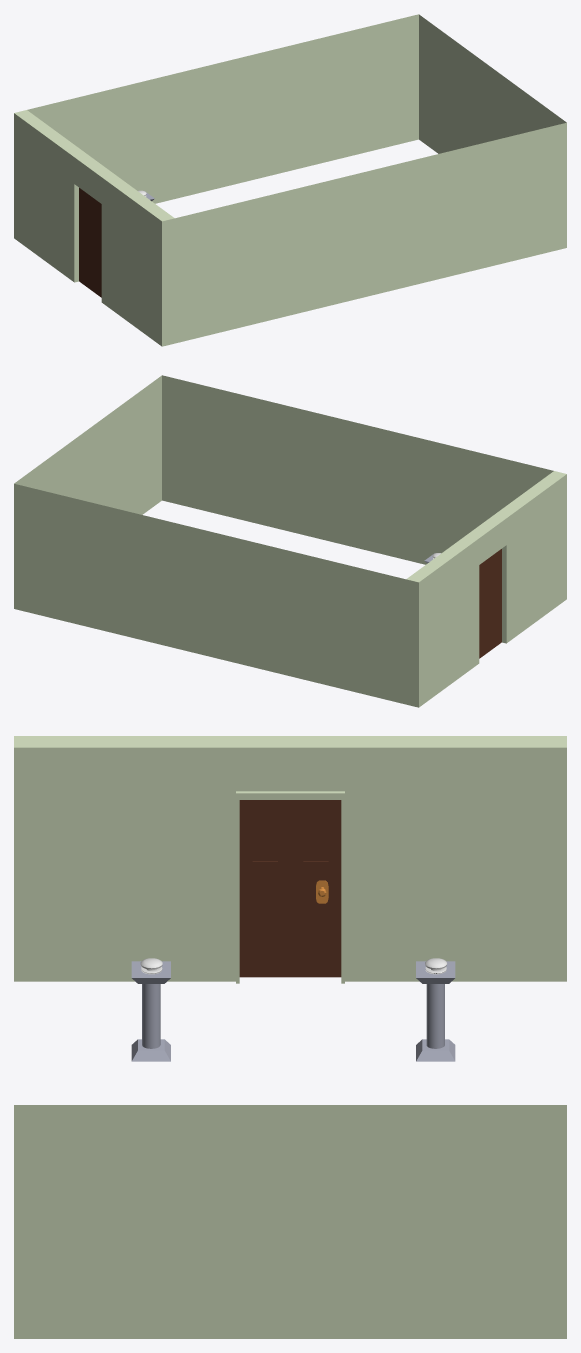
The model's file is 2101_Assets_Unity_Prototype.glb.
3 renders of one model, top to bottom at view 1: azimuth 30°, elevation 25°; view 2: azimuth 150°, elevation 25°; view 3: azimuth 270°, elevation 25°, orthographic. The views are drawn at different scales.
Visible parts, largest first — view 1: Wall.001, Wall, Door; view 2: Wall.001, Wall, Door; view 3: Wall.001, Wall, Door, Cylinder.002, Cylinder.005.
Boxes of the visible parts, bbox=[...] form: Wall.001: bbox=[27, 14, 566, 344]; Wall: bbox=[14, 110, 174, 346]; Door: bbox=[79, 188, 101, 297]; Wall.001: bbox=[14, 375, 553, 704]; Wall: bbox=[406, 471, 566, 707]; Door: bbox=[479, 549, 501, 658]; Wall.001: bbox=[14, 1105, 566, 1338]; Wall: bbox=[14, 736, 566, 983]; Door: bbox=[239, 800, 341, 977]; Cylinder.002: bbox=[131, 961, 170, 1061]; Cylinder.005: bbox=[416, 961, 455, 1061].
Size of the model in its own units: 9.47 by 2.8 by 6.
